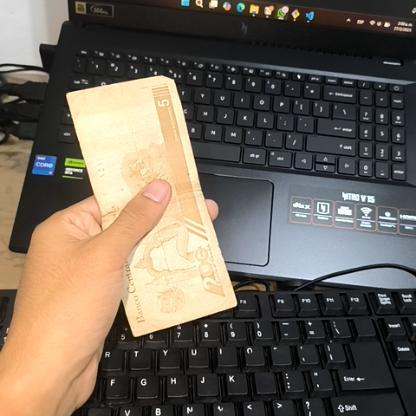five-back-vef: (64, 75, 238, 336)
